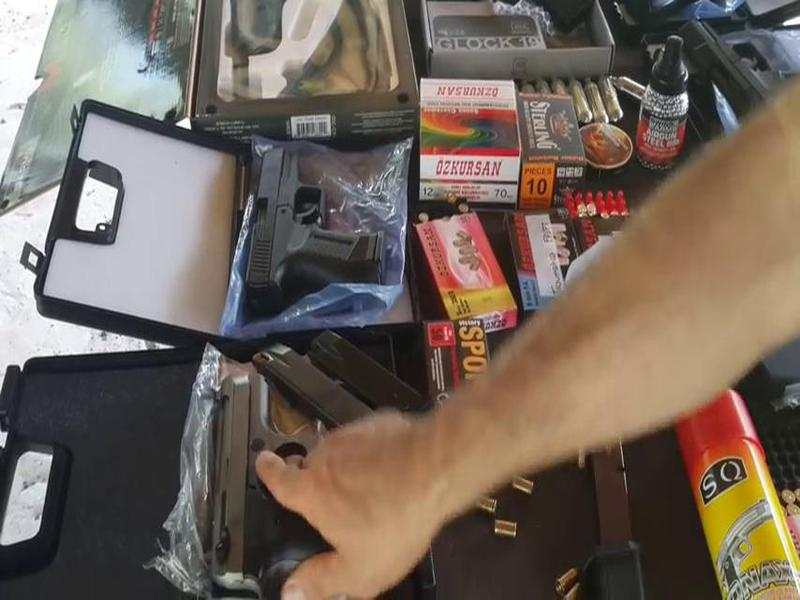Pistola: (179, 334, 423, 596), (239, 135, 397, 322)
